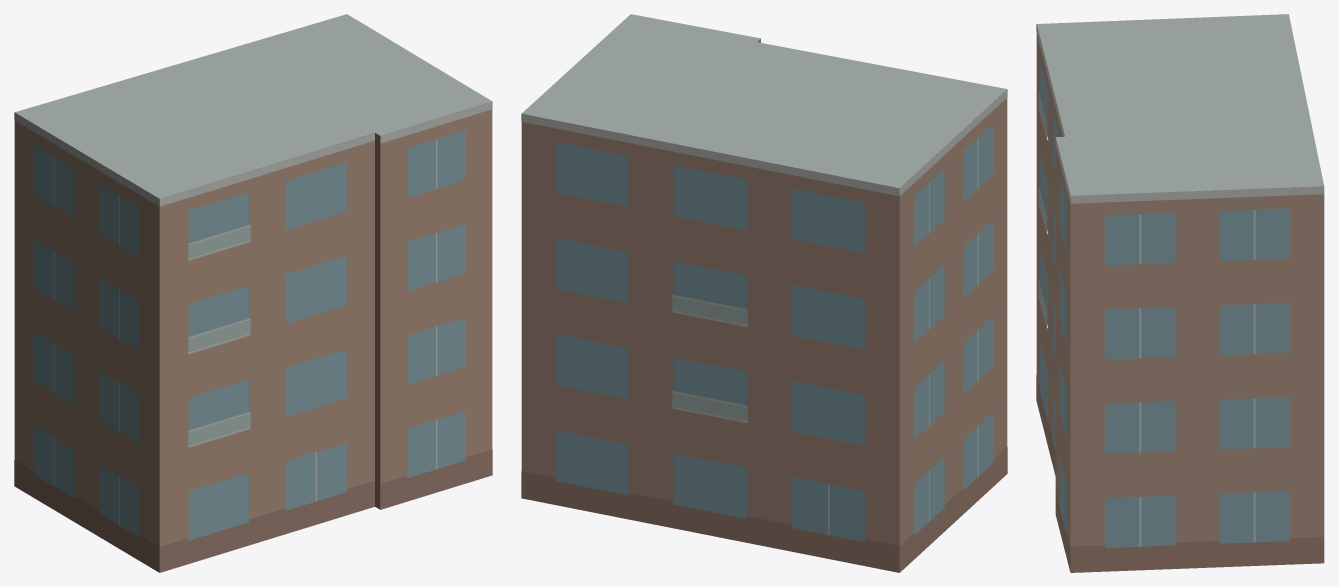
Rendered from survey-upis-32757159.glb.
The picture shows the model from 3 angles, left to right: view 1: azimuth 30°, elevation 25°; view 2: azimuth 150°, elevation 25°; view 3: azimuth 270°, elevation 25°; orthographic projection. The views are drawn at different scales.
Parts seen in each view (by area): view 1: survey-upis-32757159.tmp; view 2: survey-upis-32757159.tmp; view 3: survey-upis-32757159.tmp.
Part boxes in pixels (x1,y1,x2,y2): survey-upis-32757159.tmp: [14, 14, 492, 572]; survey-upis-32757159.tmp: [521, 14, 1007, 572]; survey-upis-32757159.tmp: [1036, 14, 1324, 572].
Size of the model in its own units: 12.06 by 11.65 by 8.07.
